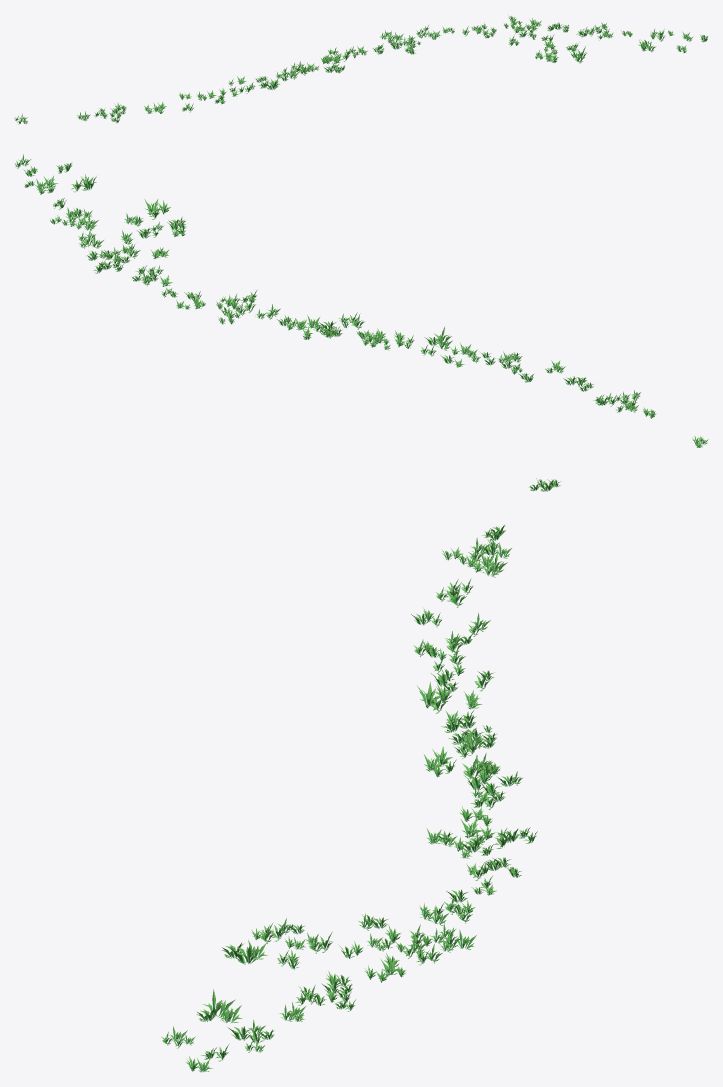
The model's file is area_03_12.fbx.
3 views of the same model, one above another, from view 1: azimuth 30°, elevation 25°; view 2: azimuth 150°, elevation 25°; view 3: azimuth 270°, elevation 25° (orthographic). The views are drawn at different scales.
Visible parts, largest first — view 1: area_03_12; view 2: area_03_12; view 3: area_03_12.
Boxes of the visible parts, x1=… form: area_03_12: x1=14, y1=15, x2=707, y2=124; area_03_12: x1=14, y1=154, x2=708, y2=447; area_03_12: x1=161, y1=478, x2=560, y2=1072.
Bounding box in the file's own units: 87.43 × 1.64 × 25.13.
